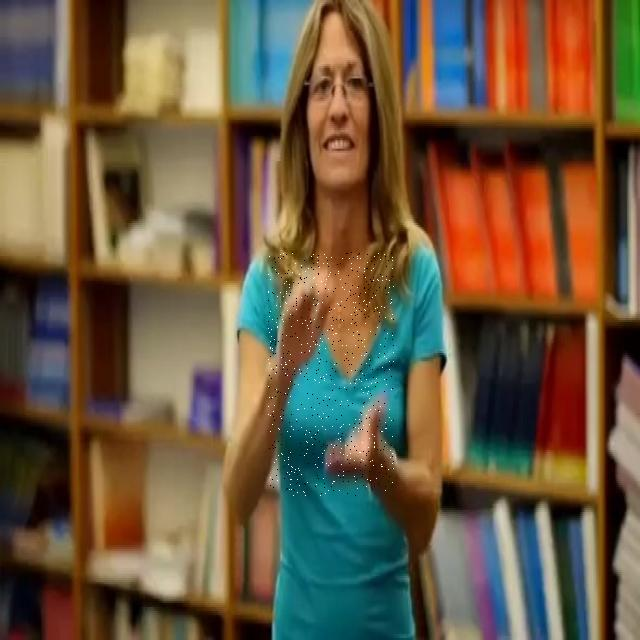burger: (268, 252, 394, 496)
